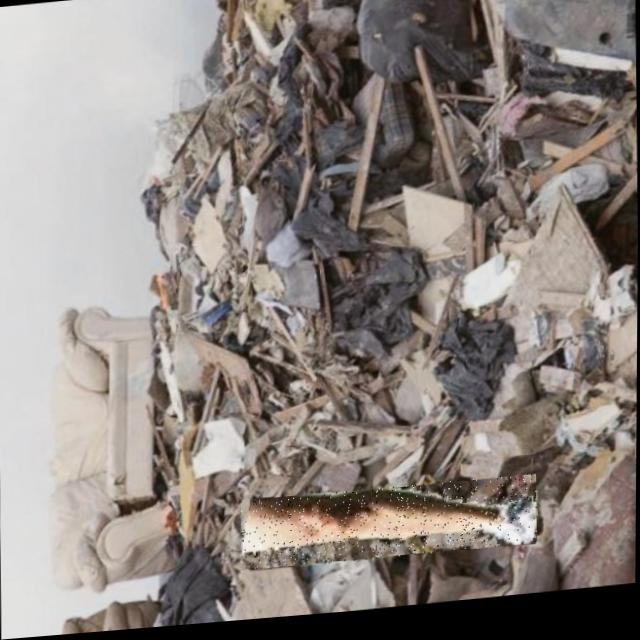Person in Rubble: (241, 481, 538, 575)
